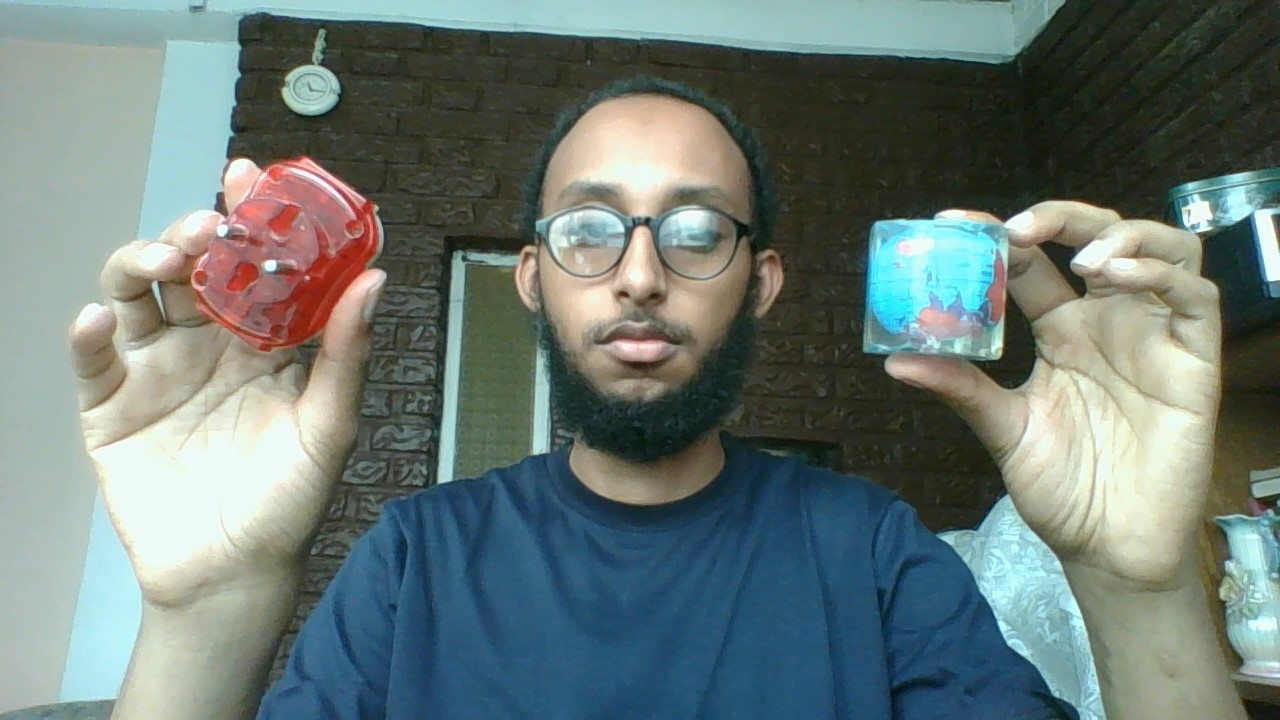Multi_adapter: (183, 146, 391, 362)
world_globe: (850, 206, 1019, 379)
